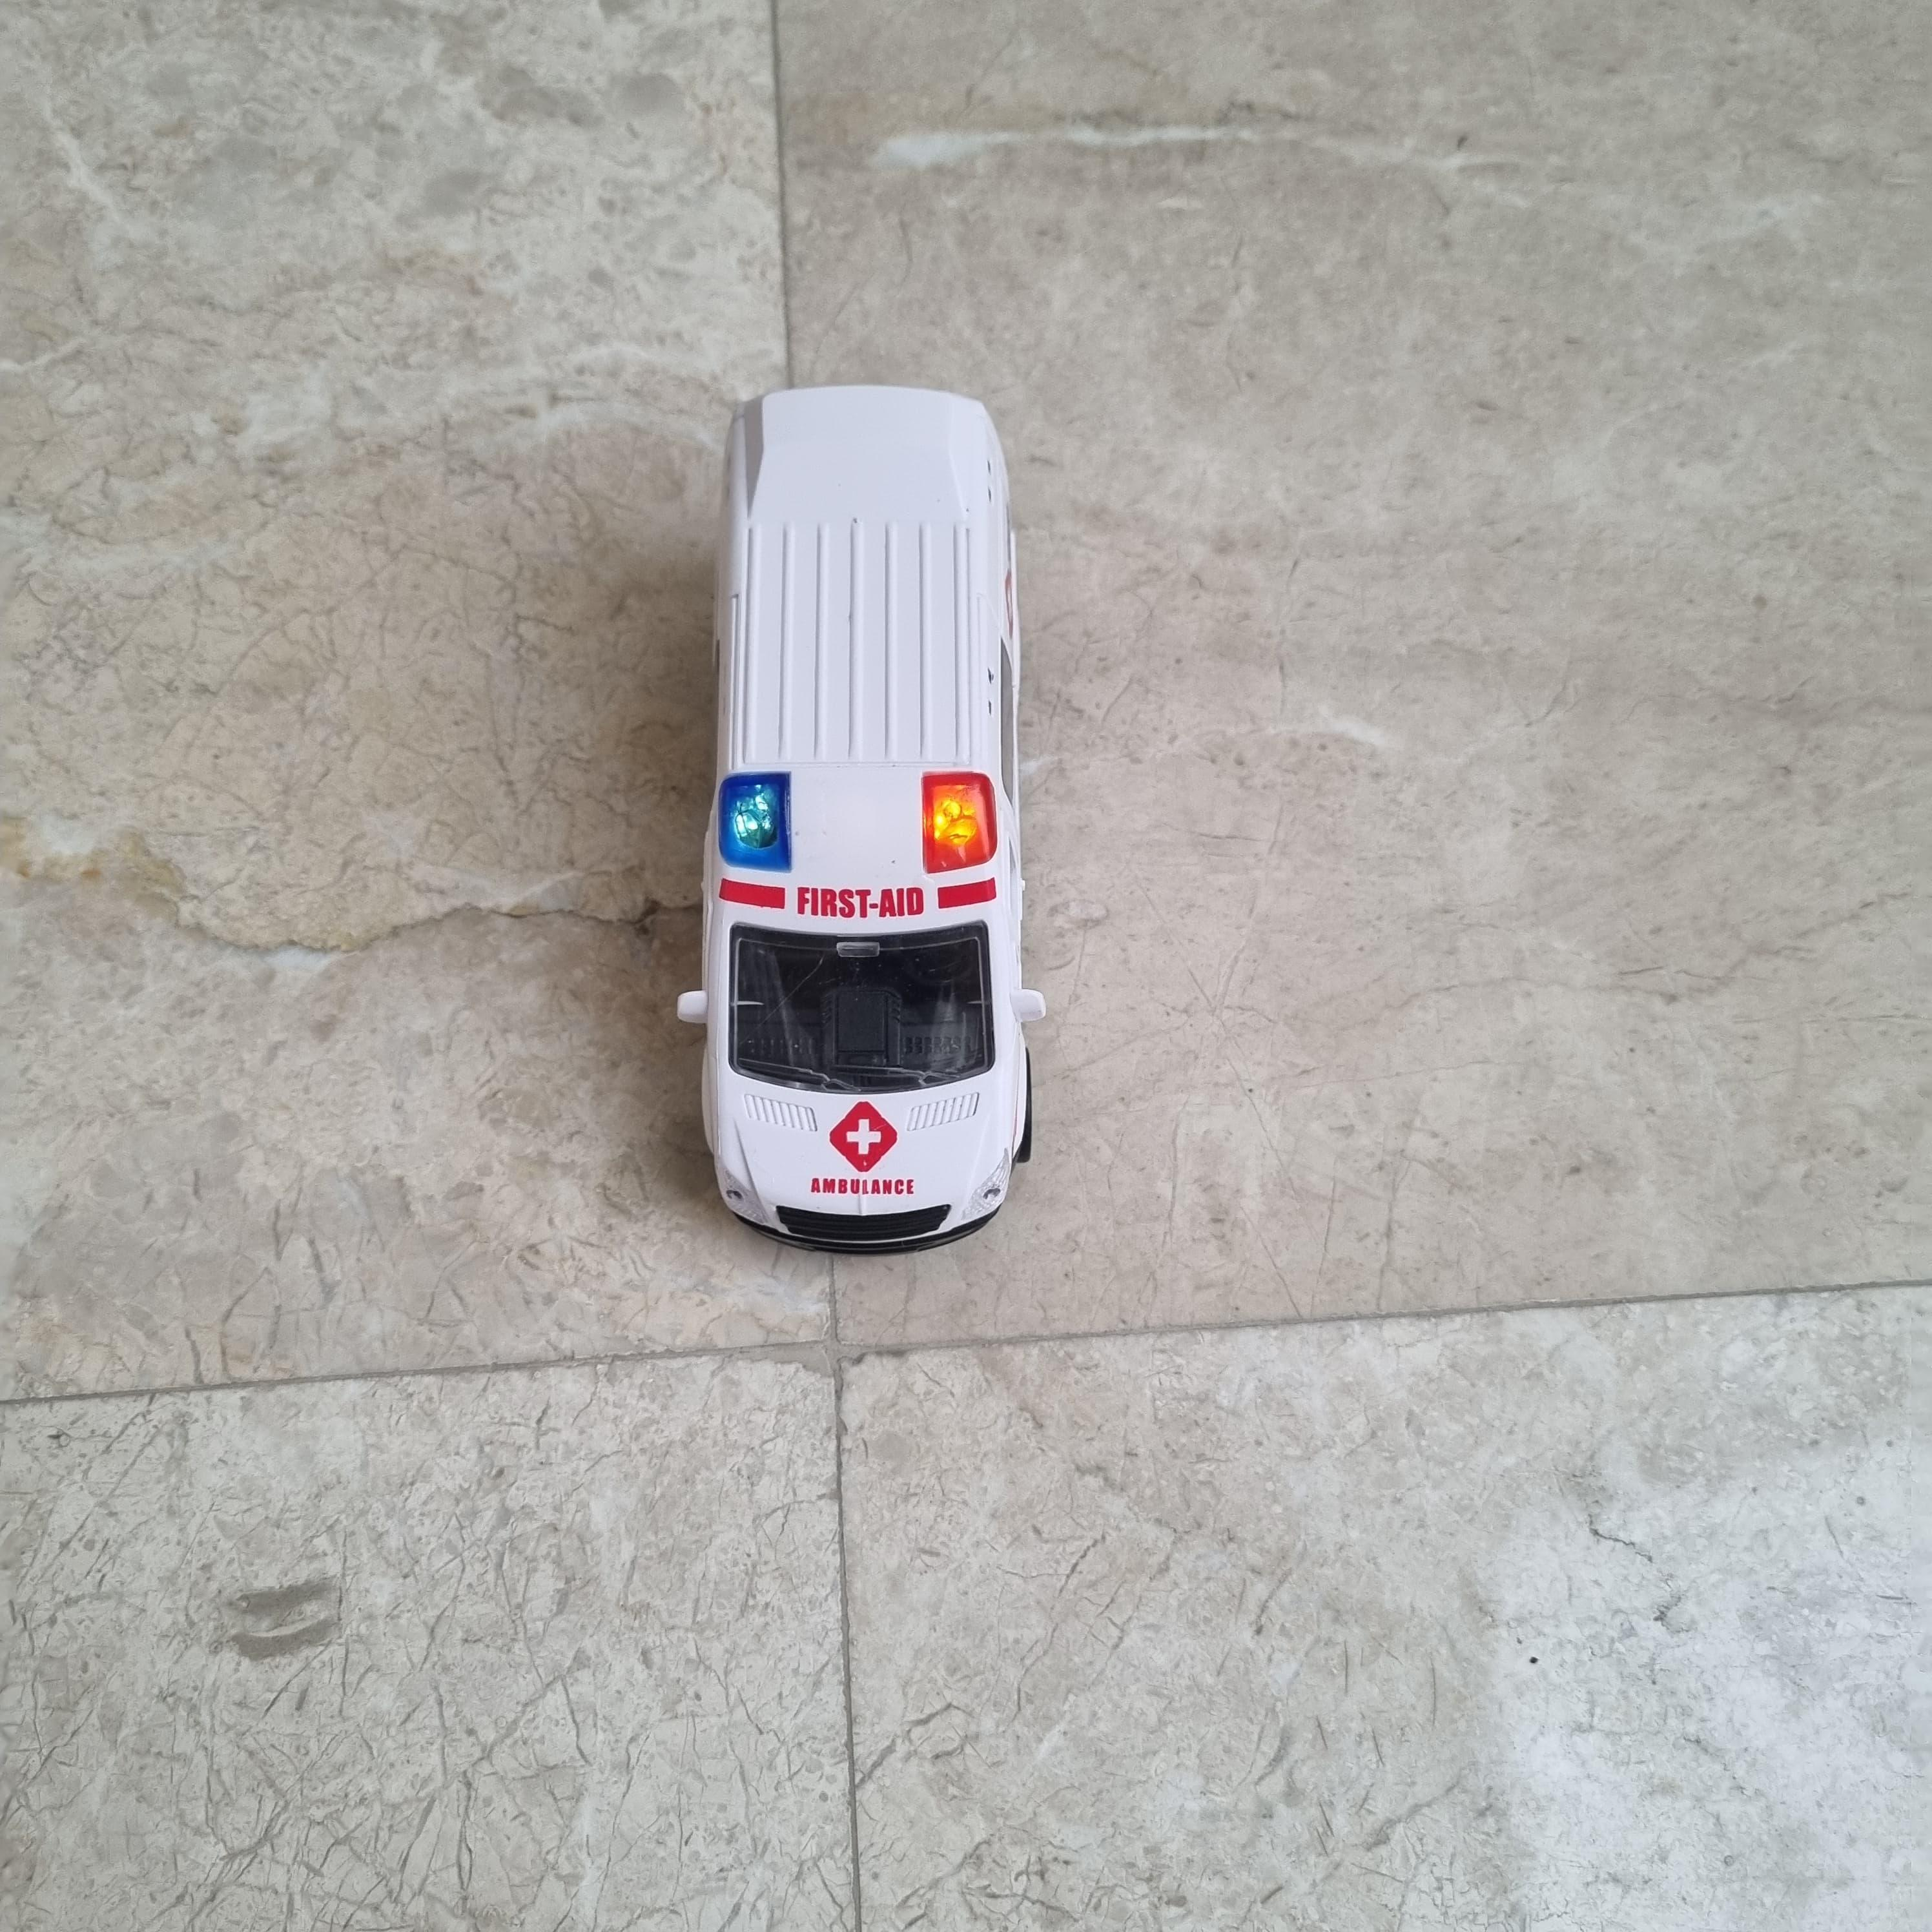ambulance_on: (679, 379, 1047, 1254)
